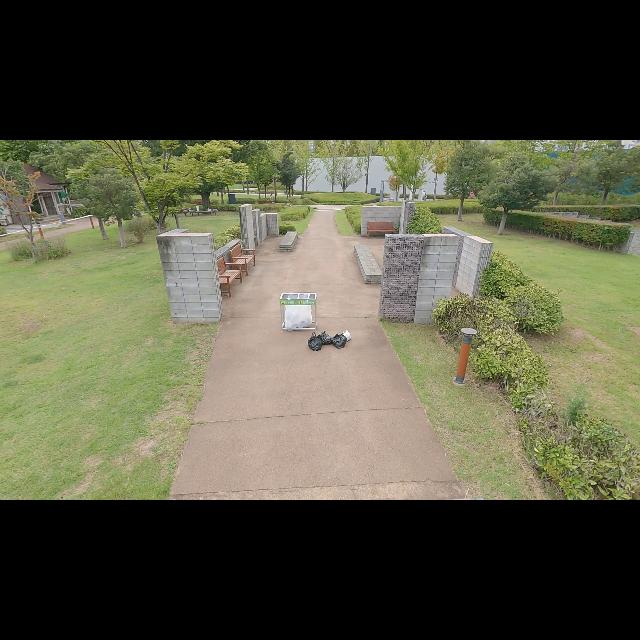trash: (330, 331, 346, 349), (308, 332, 322, 352), (318, 330, 334, 344)
